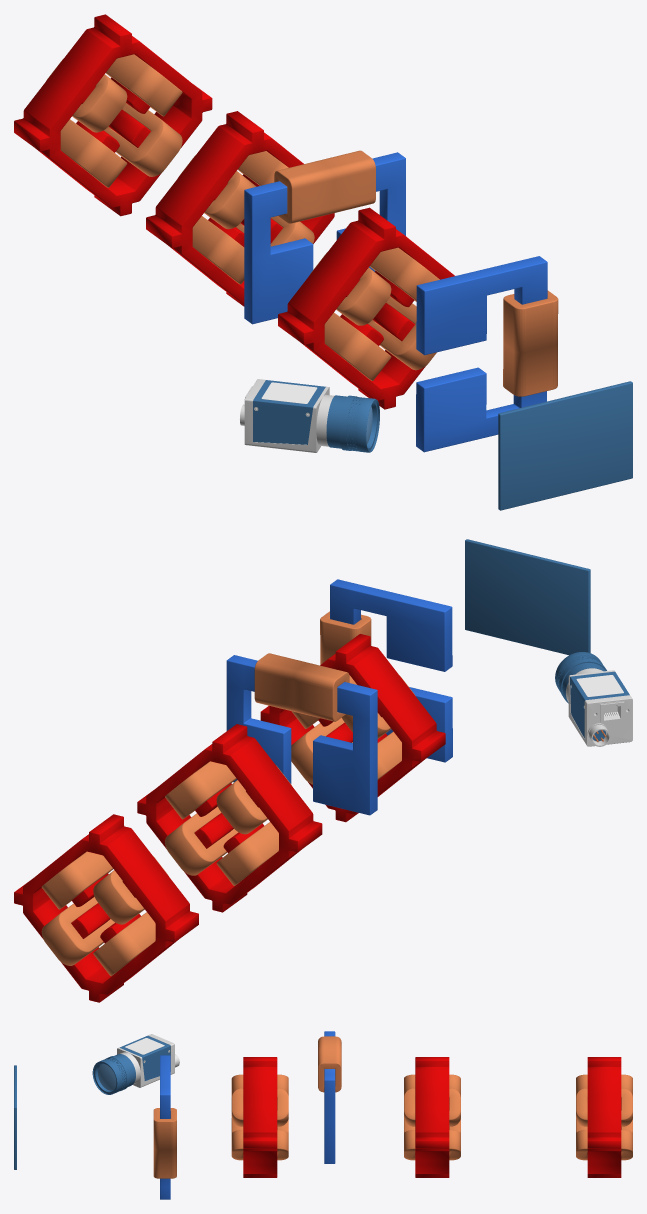
The picture shows the model from 3 angles, top to bottom: view 1: azimuth 30°, elevation 25°; view 2: azimuth 150°, elevation 25°; view 3: azimuth 270°, elevation 25°; orthographic projection. The views are drawn at different scales.
Visible parts, largest first — view 1: quadrupole.glb, screen.glb, horizontal_corrector.glb_1, quadrupole.glb_8, quadrupole.glb_4, quadrupole.glb_1, vertical_corrector.glb, quadrupole.glb_9, screen.glb_2, quadrupole.glb_5, horizontal_corrector.glb, vertical_corrector.glb_1 (+6 smaller); view 2: quadrupole.glb, quadrupole.glb_4, screen.glb, vertical_corrector.glb, quadrupole.glb_1, quadrupole.glb_5, horizontal_corrector.glb_1, quadrupole.glb_8, vertical_corrector.glb_1, quadrupole.glb_9, screen.glb_1, screen.glb_2 (+6 smaller); view 3: quadrupole.glb_8, quadrupole.glb_4, quadrupole.glb, quadrupole.glb_9, quadrupole.glb_1, quadrupole.glb_5, screen.glb_2, horizontal_corrector.glb, vertical_corrector.glb, vertical_corrector.glb_1, horizontal_corrector.glb_1, vertical_corrector.glb_3 (+9 smaller).
Boxes of the visible parts, bbox=[...] form: quadrupole.glb: bbox=[14, 14, 212, 216]; screen.glb: bbox=[498, 381, 632, 510]; horizontal_corrector.glb_1: bbox=[416, 256, 547, 452]; quadrupole.glb_8: bbox=[278, 207, 454, 409]; quadrupole.glb_4: bbox=[146, 111, 334, 306]; quadrupole.glb_1: bbox=[46, 54, 182, 187]; vertical_corrector.glb: bbox=[244, 152, 405, 324]; quadrupole.glb_9: bbox=[310, 247, 439, 380]; screen.glb_2: bbox=[253, 380, 379, 452]; quadrupole.glb_5: bbox=[178, 151, 314, 284]; horizontal_corrector.glb: bbox=[503, 290, 558, 396]; vertical_corrector.glb_1: bbox=[274, 150, 375, 223]; quadrupole.glb: bbox=[14, 814, 198, 1002]; quadrupole.glb_4: bbox=[137, 724, 322, 912]; screen.glb: bbox=[465, 539, 590, 655]; vertical_corrector.glb: bbox=[226, 655, 377, 815]; quadrupole.glb_1: bbox=[41, 851, 168, 975]; quadrupole.glb_5: bbox=[165, 761, 291, 885]; horizontal_corrector.glb_1: bbox=[330, 579, 452, 762]; quadrupole.glb_8: bbox=[260, 634, 445, 822]; vertical_corrector.glb_1: bbox=[254, 653, 349, 721]; quadrupole.glb_9: bbox=[291, 675, 414, 784]; screen.glb_1: bbox=[566, 668, 632, 746]; screen.glb_2: bbox=[555, 652, 629, 741]; quadrupole.glb_8: bbox=[243, 1057, 277, 1177]; quadrupole.glb_4: bbox=[415, 1057, 449, 1177]; quadrupole.glb: bbox=[587, 1057, 621, 1177]; quadrupole.glb_9: bbox=[231, 1074, 288, 1160]; quadrupole.glb_1: bbox=[576, 1074, 632, 1160]; quadrupole.glb_5: bbox=[404, 1074, 460, 1160]; screen.glb_2: bbox=[92, 1035, 170, 1094]; horizontal_corrector.glb: bbox=[153, 1108, 176, 1178]; vertical_corrector.glb: bbox=[324, 1031, 335, 1163]; vertical_corrector.glb_1: bbox=[318, 1036, 341, 1092]; horizontal_corrector.glb_1: bbox=[160, 1055, 170, 1199]; vertical_corrector.glb_3: bbox=[324, 1069, 334, 1163].
Size of the model in its own units: 0.7661 by 0.4481 by 1.98.
